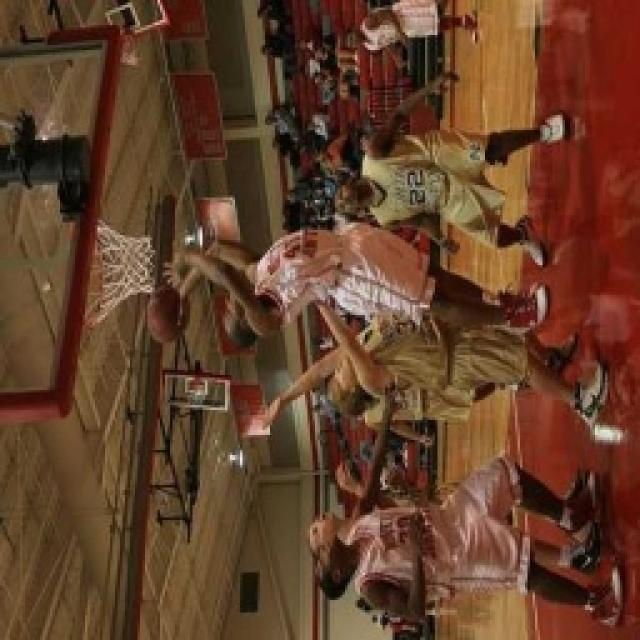basketball: (142, 285, 192, 347)
